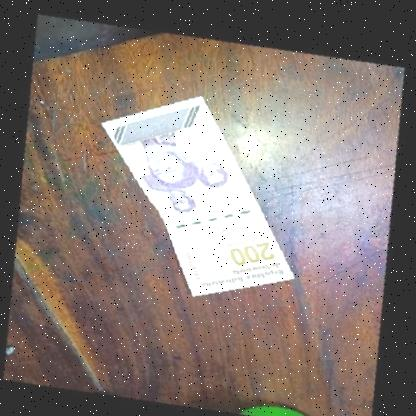two_hundred-front-vef: (67, 65, 330, 321)
